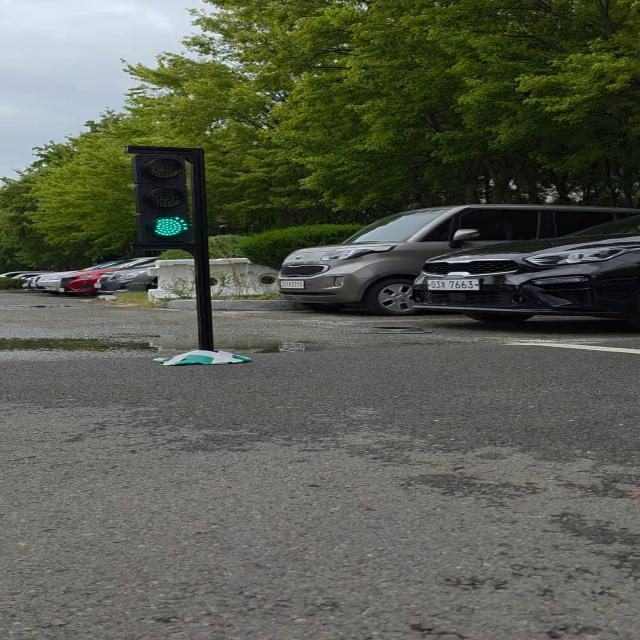green: (133, 146, 200, 250)
